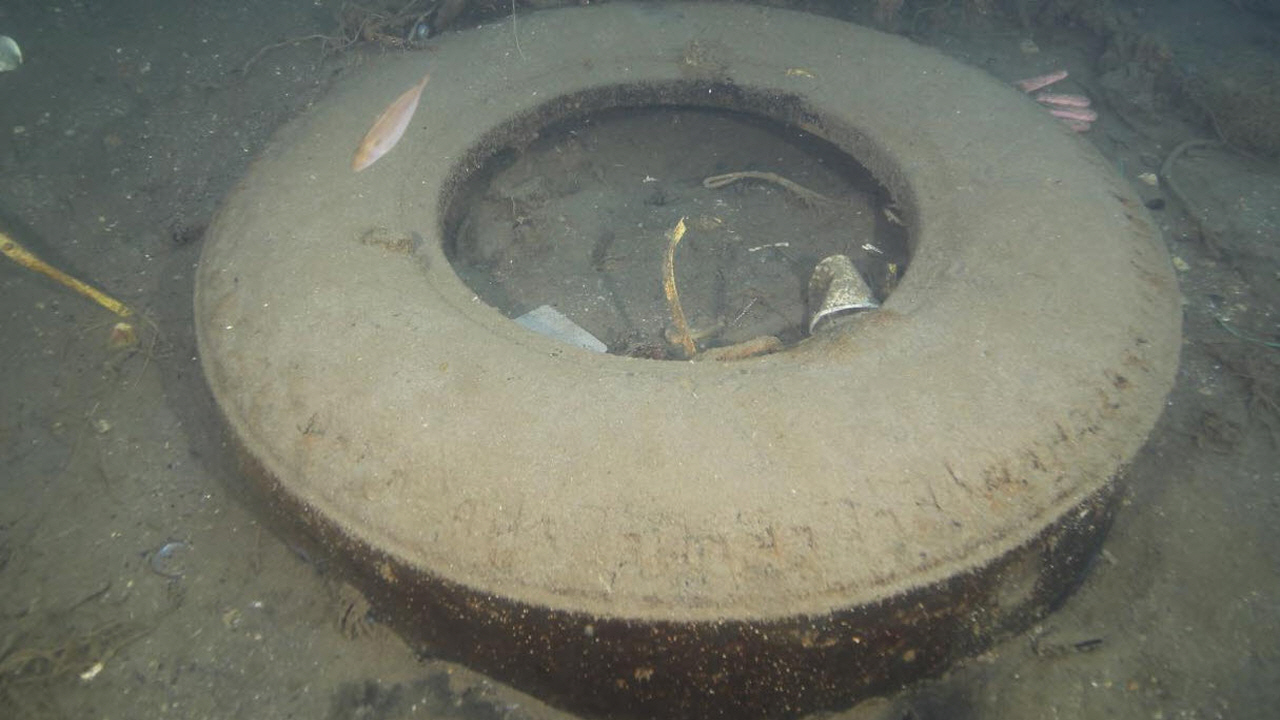tire: (190, 0, 1185, 720)
